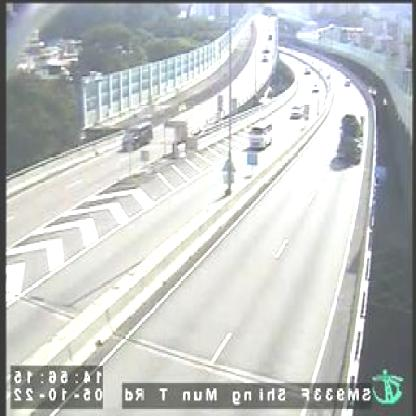Car: (122, 118, 154, 149), (250, 120, 273, 147), (291, 102, 304, 116), (313, 83, 321, 92)
Truck: (337, 113, 364, 161)
